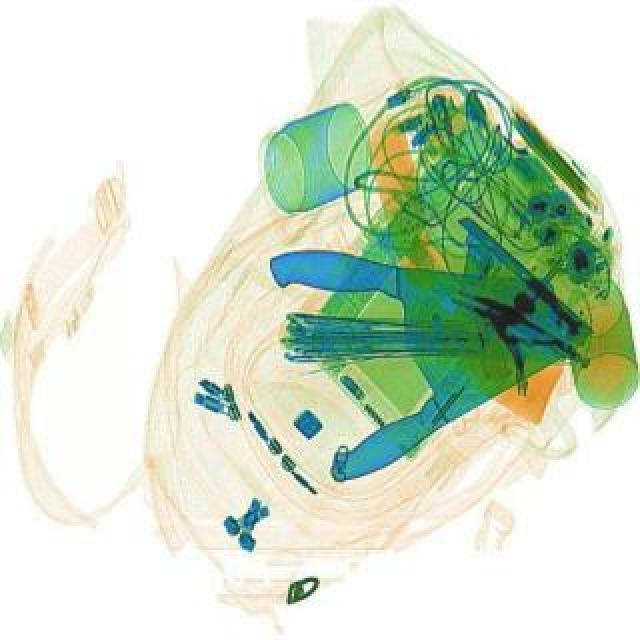knife: (298, 268, 594, 496), (264, 244, 568, 364)
